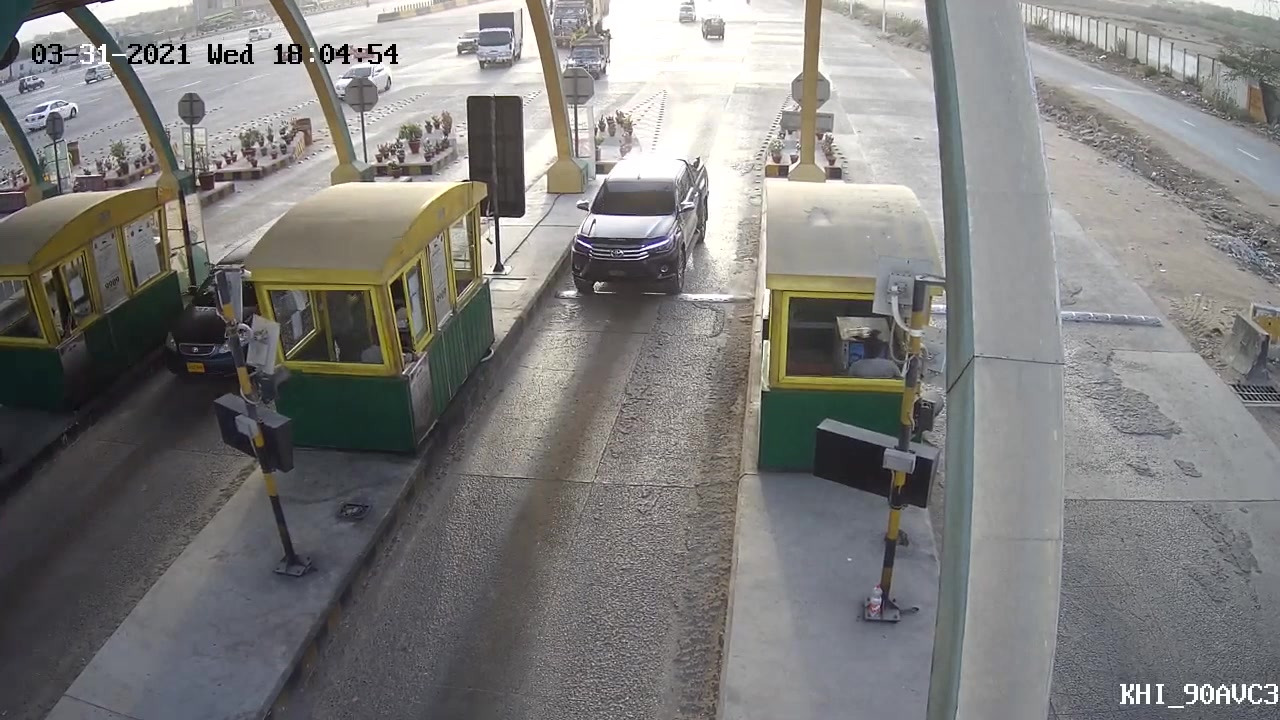F1: (555, 147, 717, 301)
